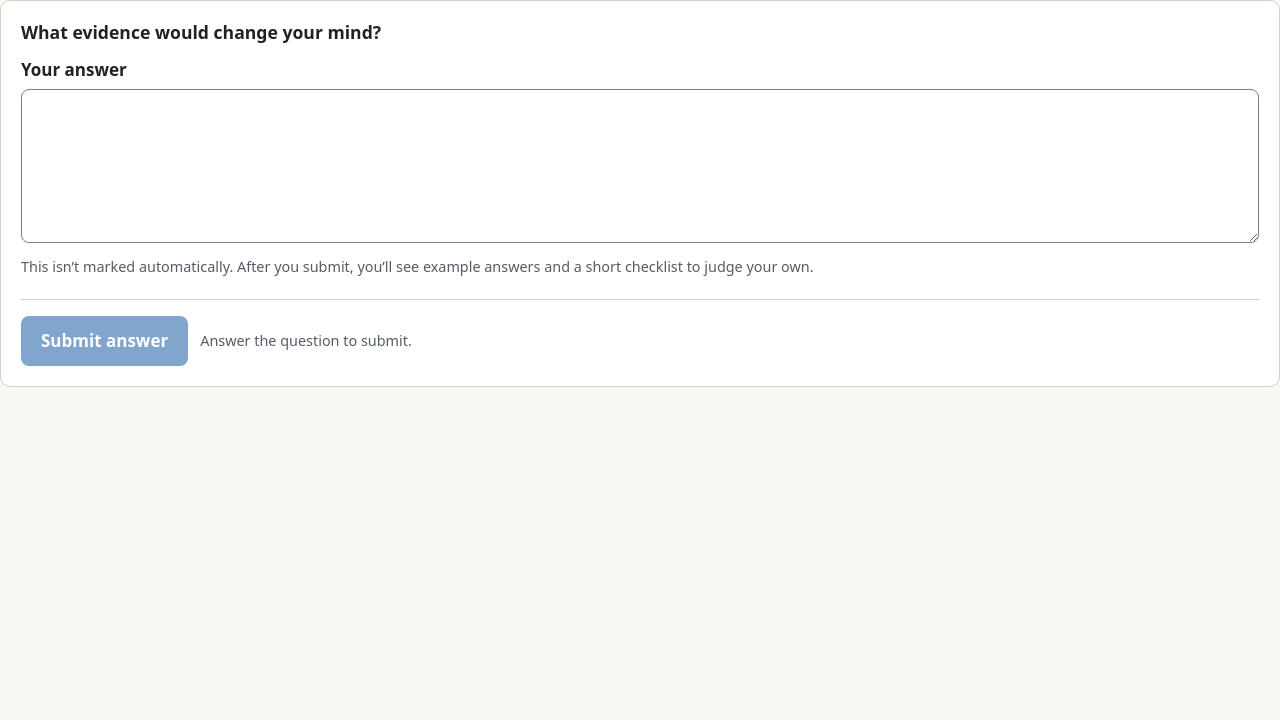
Test: Reflection › shows model answers and a self-check rubric after submitting
This screenshot has width=1280, height=720.
Later steps or results of the test are not shown.
Type "A fair test showing the opposite result." into the text box labelled "Your answer" at (640, 166), box [21,89,1259,243]
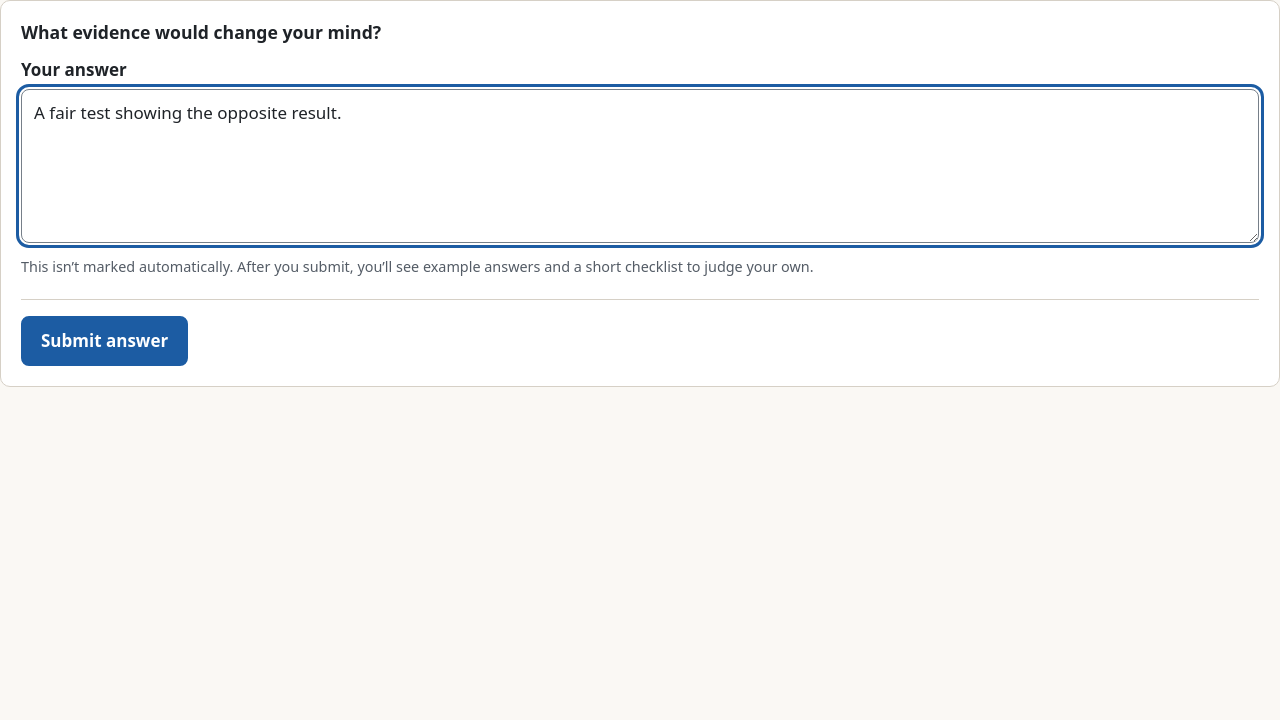
Click the button "Submit answer" at (105, 341), box [21,316,188,366]
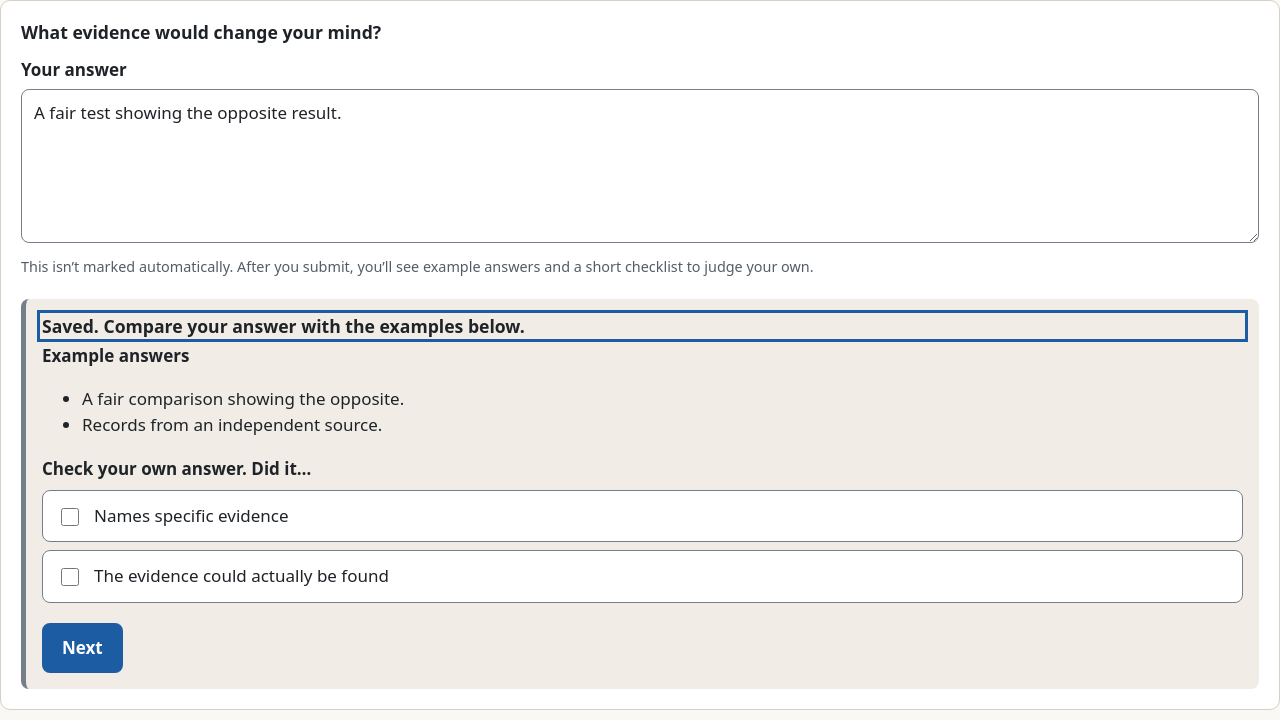
Now the list item "Records from an independent source." is shown, box [82,413,382,436]
